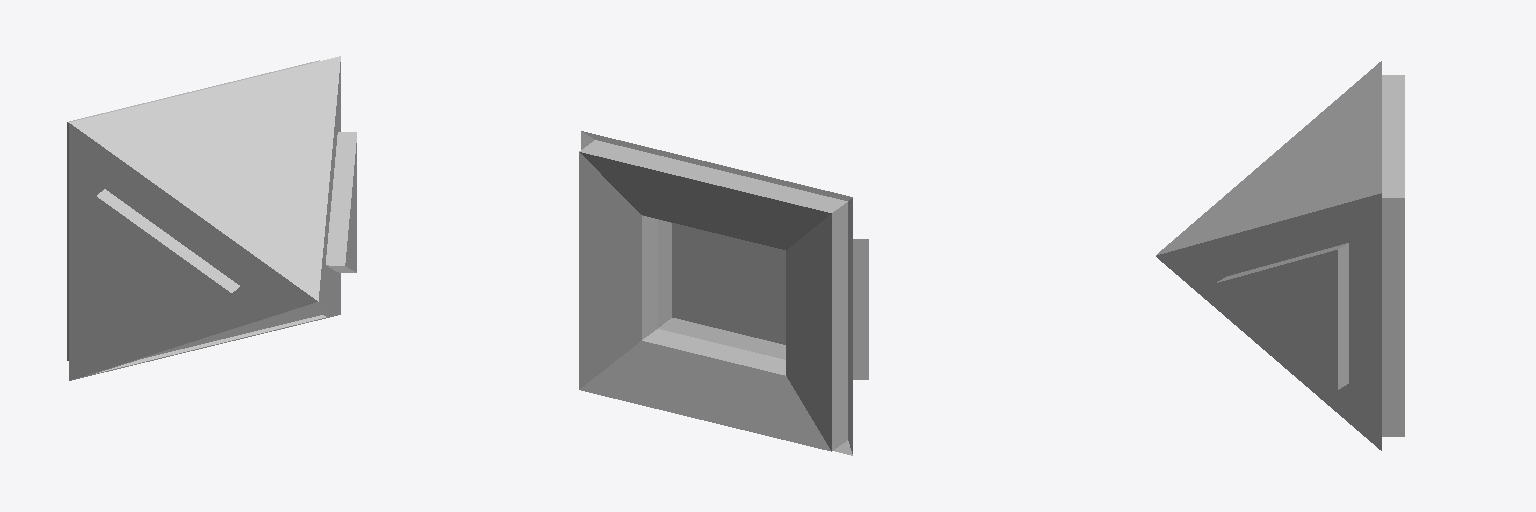
Rendered from Space Mine.obj.
The picture shows the model from 3 angles: view 1: azimuth 30°, elevation 25°; view 2: azimuth 150°, elevation 25°; view 3: azimuth 270°, elevation 25°; orthographic projection.
Parts seen in each view (by area): view 1: Pyramid001; view 2: Pyramid001; view 3: Pyramid001.
Boxes of the visible parts, x1=… form: Pyramid001: x1=67, y1=56, x2=356, y2=380; Pyramid001: x1=579, y1=131, x2=868, y2=455; Pyramid001: x1=1156, y1=61, x2=1404, y2=450.
Bounding box in the file's own units: 4.19 × 3.8 × 3.33.